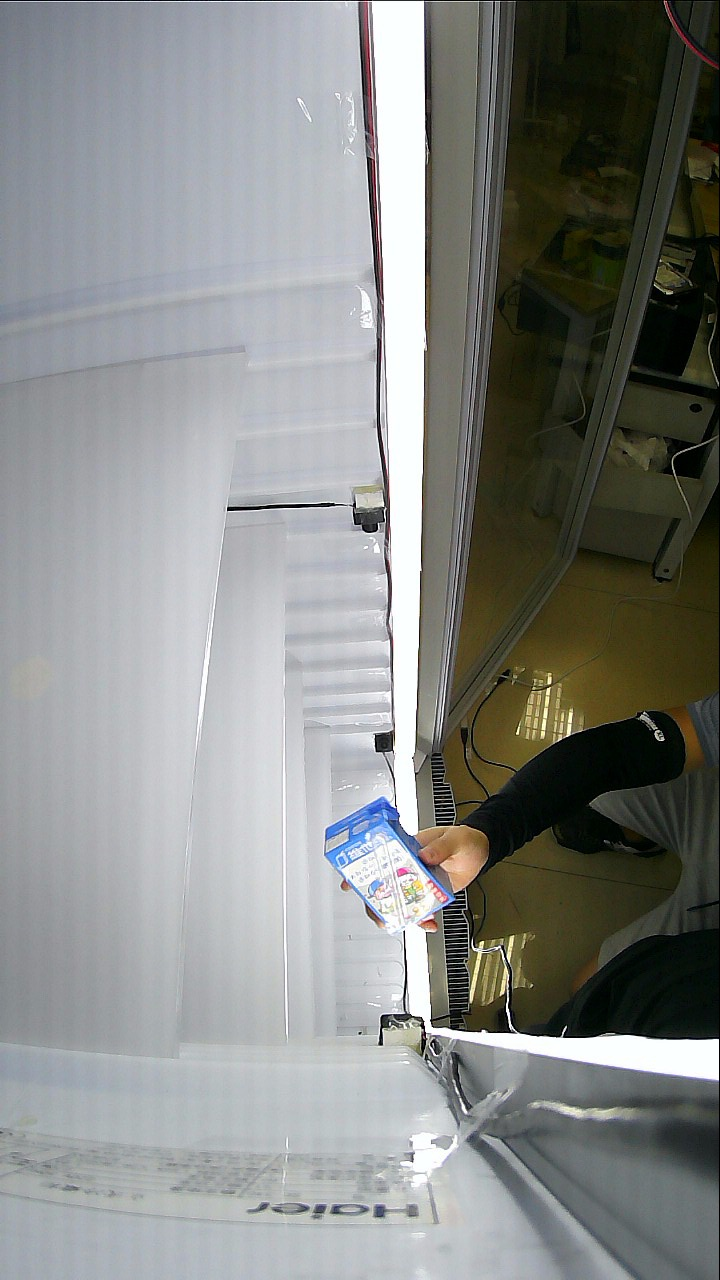VitaSoyOriginal: (329, 745, 559, 936)
